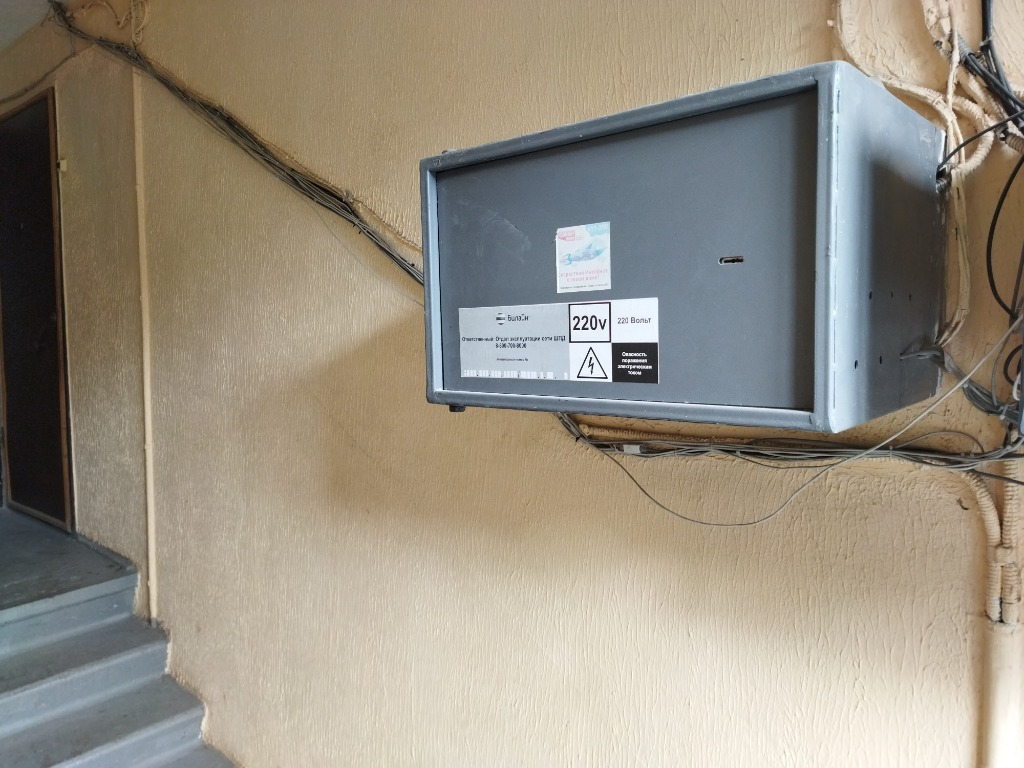e2-6u: (407, 54, 956, 446)
